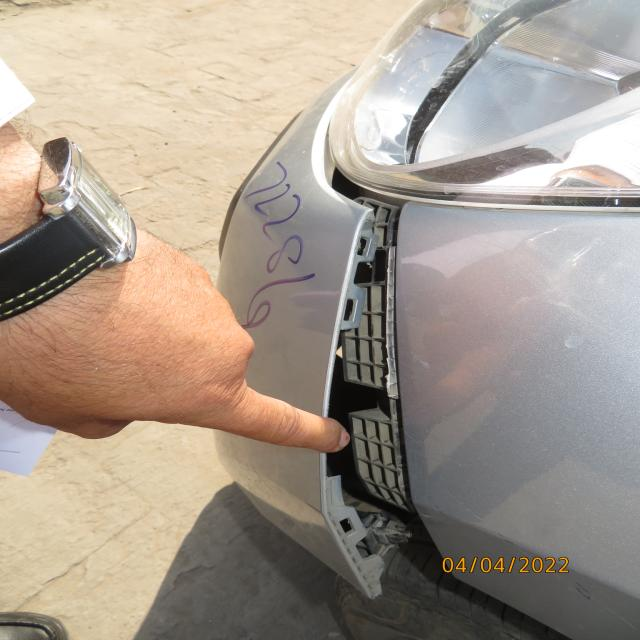damage: (301, 155, 482, 599)
